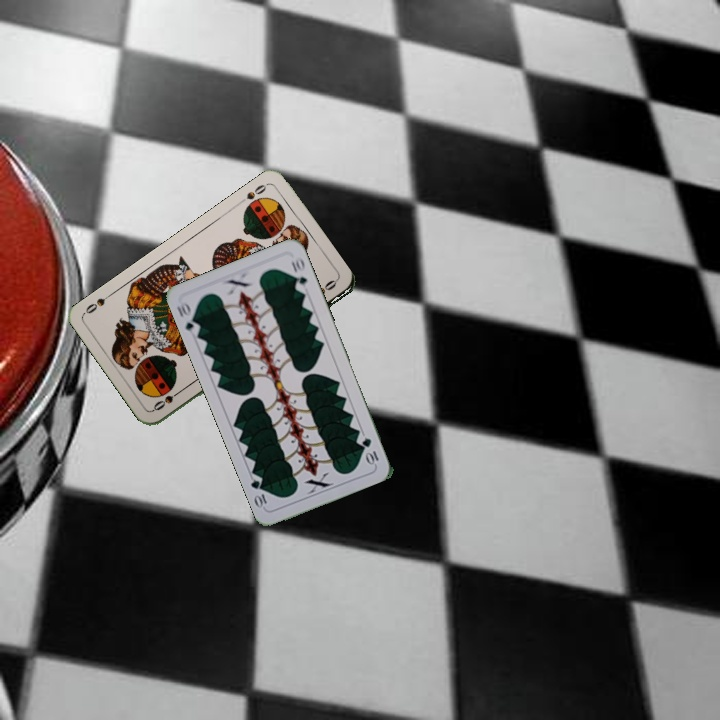G10: (173, 297, 203, 335), (358, 434, 381, 467)
SO: (149, 385, 185, 413), (234, 180, 270, 207)
